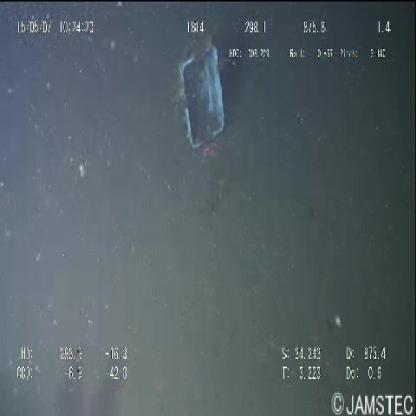Rác: (168, 31, 234, 162)
